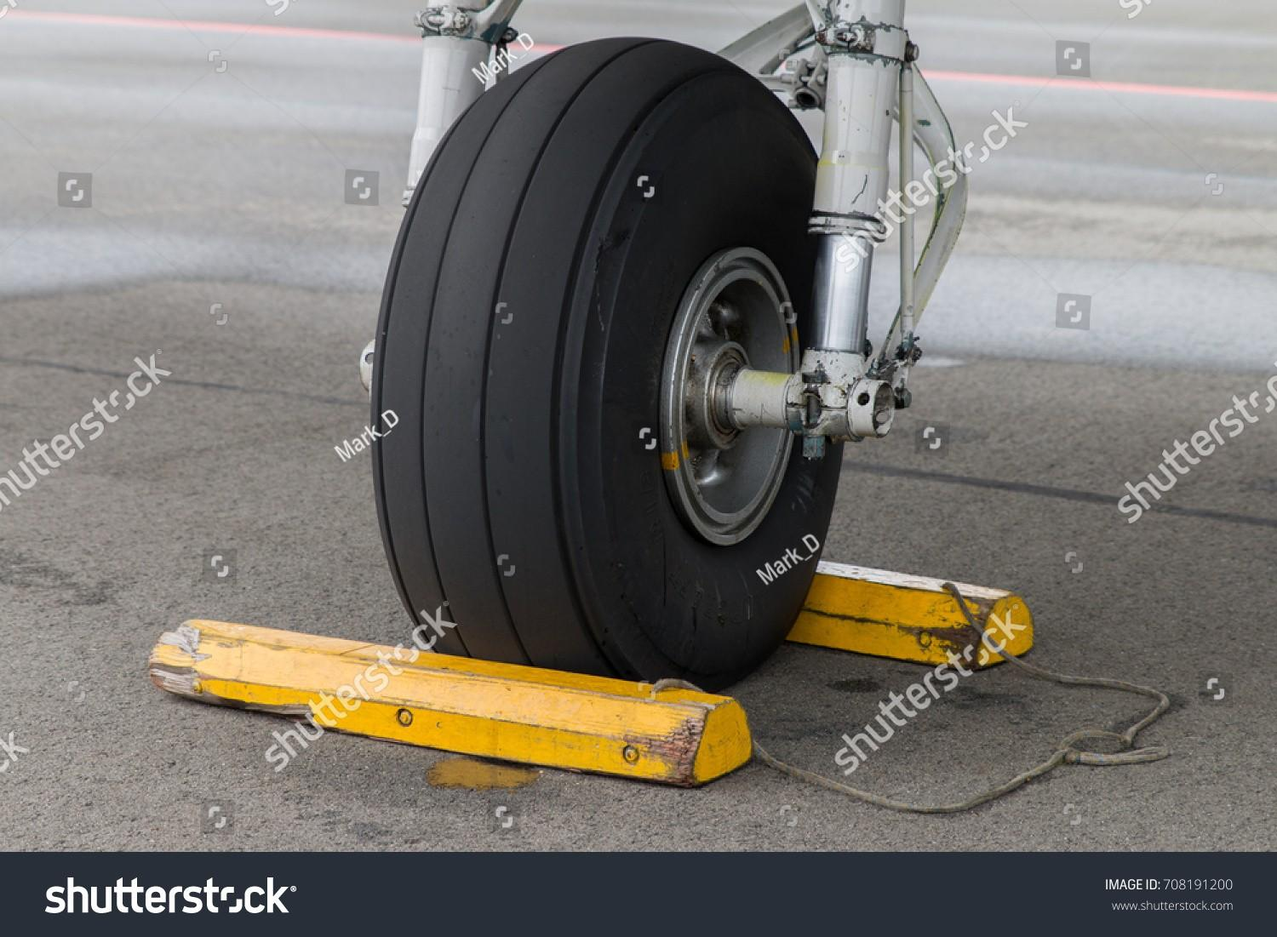chock: (145, 614, 763, 787), (609, 556, 1037, 672)
wheel: (369, 29, 819, 697)
